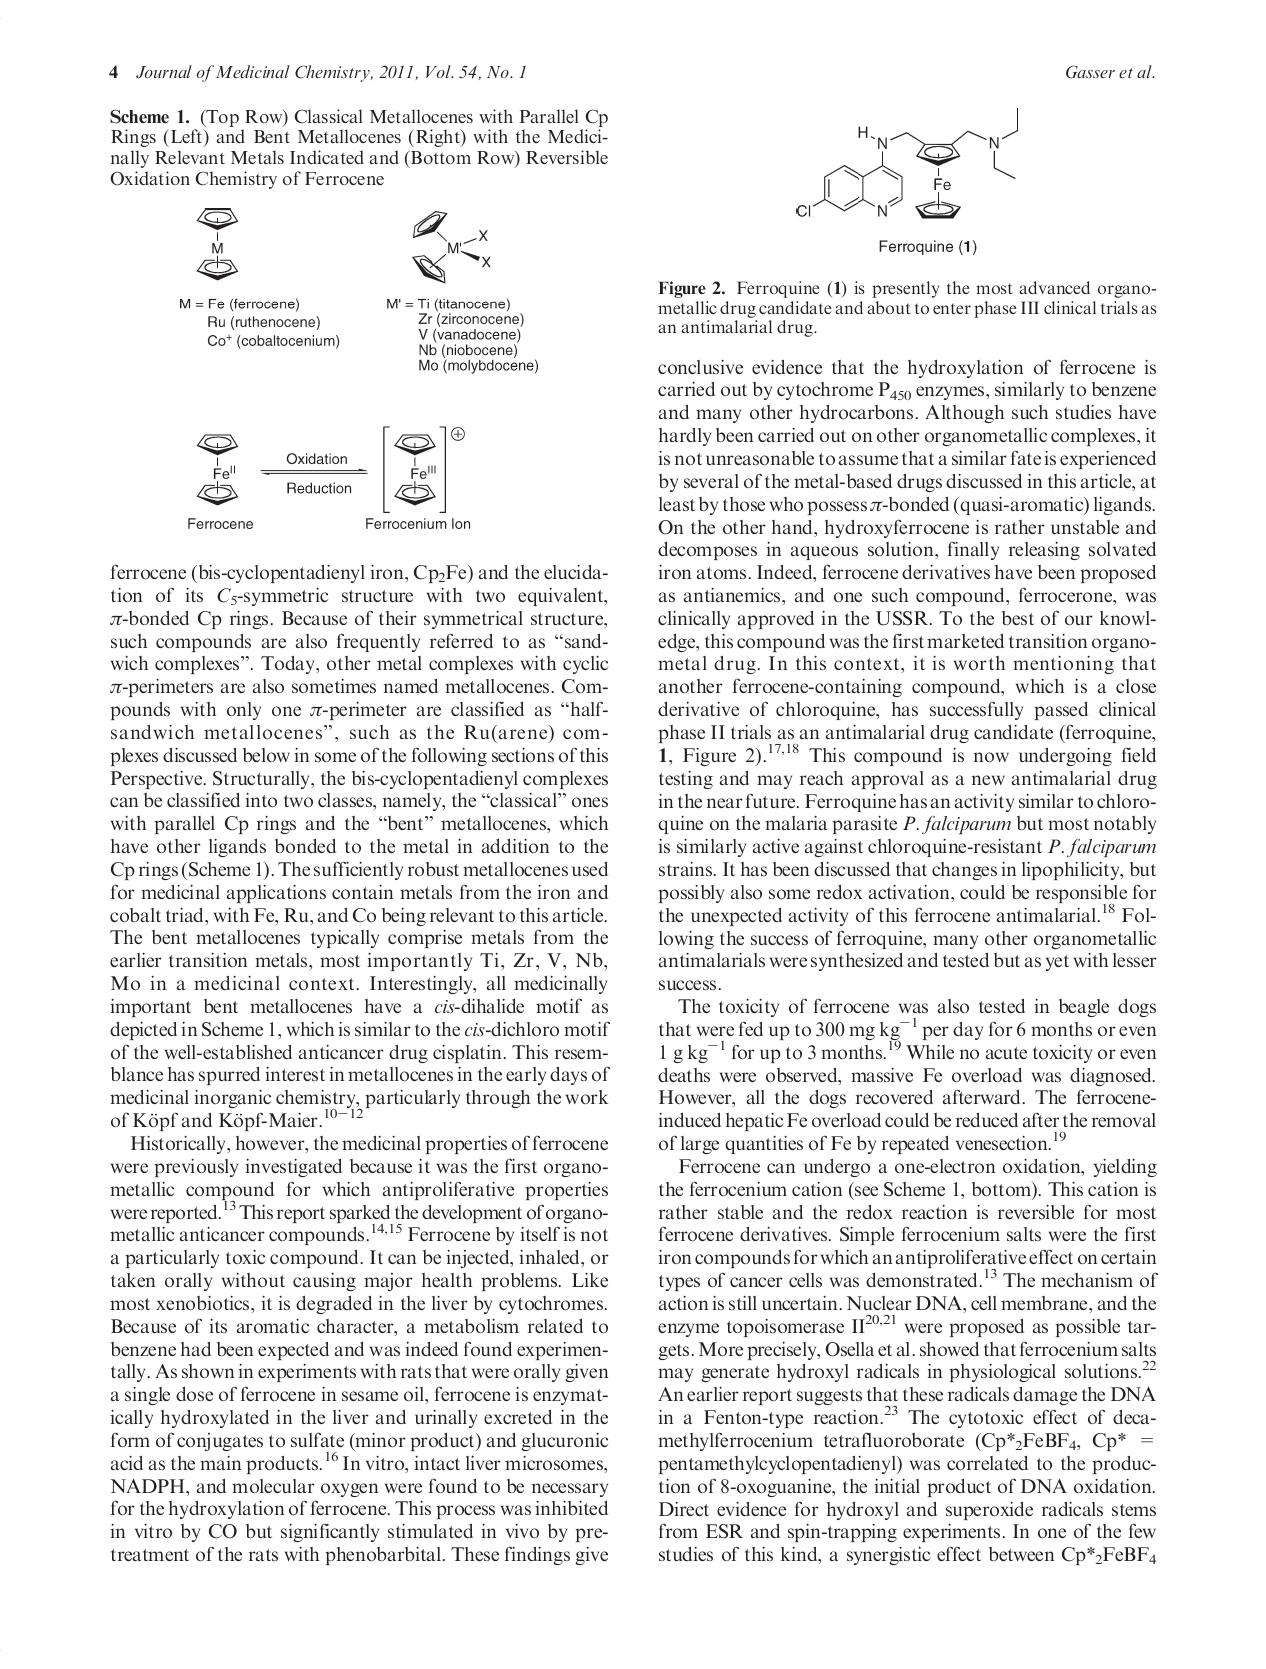exist_molecular: (790, 105, 1031, 226), (408, 206, 501, 285), (191, 428, 247, 509), (193, 203, 243, 285), (391, 428, 439, 507)
